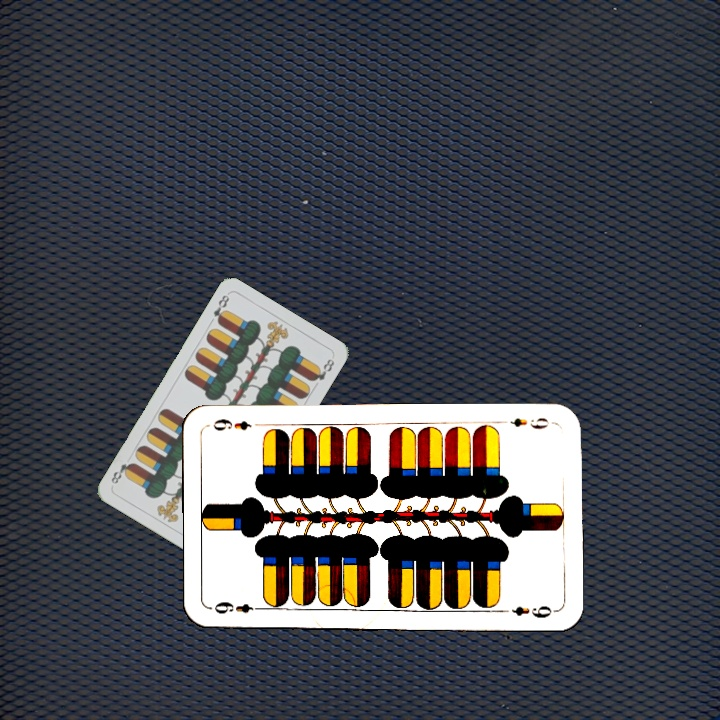E8: (209, 291, 232, 327)
E9: (208, 598, 267, 617), (506, 413, 550, 432)
